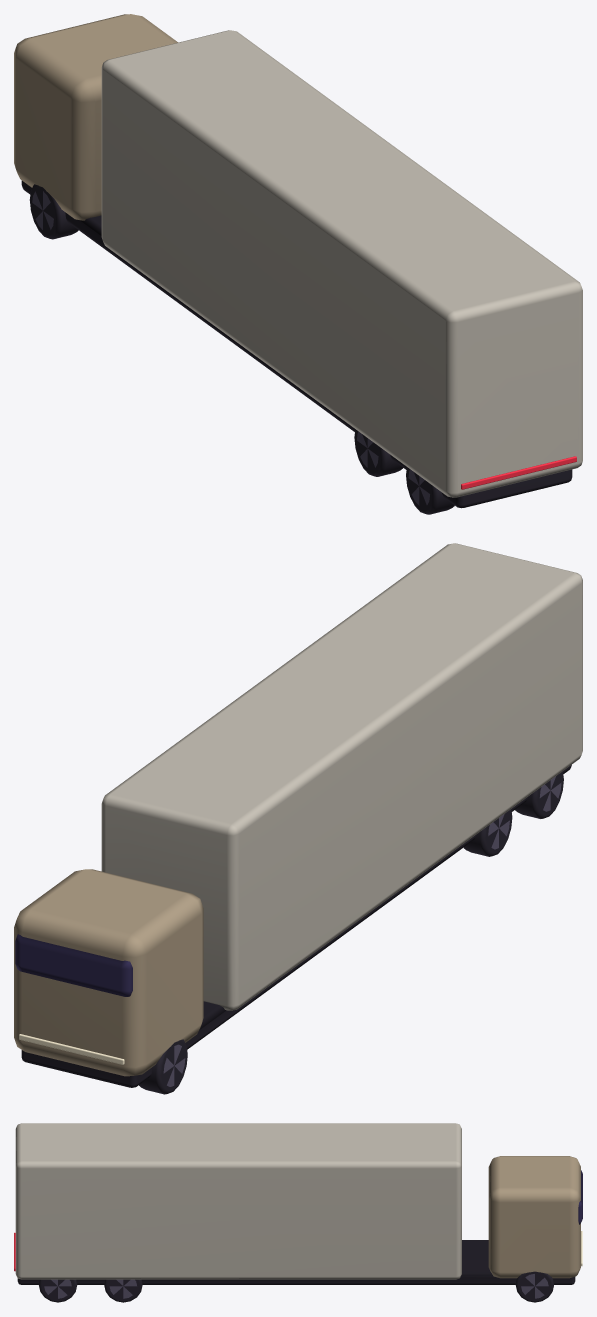
File: semi.glb
The picture shows the model from 3 angles, top to bottom: view 1: azimuth 30°, elevation 25°; view 2: azimuth 150°, elevation 25°; view 3: azimuth 270°, elevation 25°; orthographic projection. The views are drawn at different scales.
Visible parts, largest first — view 1: body, wheel_fl_mesh, wheel_ml_mesh, wheel_rl_mesh, lights; view 2: body, glass, wheel_fl_mesh, wheel_ml_mesh, wheel_rl_mesh, lights; view 3: body, wheel_fr_mesh, wheel_mr_mesh, wheel_rr_mesh.
Boxes of the visible parts, box(x1,y1,x2,y2) form: body: box(14, 14, 582, 508); wheel_fl_mesh: box(29, 184, 78, 239); wheel_ml_mesh: box(354, 429, 402, 476); wheel_rl_mesh: box(406, 467, 454, 514); lights: box(461, 456, 576, 489); body: box(14, 543, 582, 1087); glass: box(15, 934, 132, 996); wheel_fl_mesh: box(139, 1039, 187, 1094); wheel_ml_mesh: box(463, 809, 512, 856); wheel_rl_mesh: box(515, 771, 563, 818); lights: box(19, 1034, 124, 1064); body: box(15, 1123, 580, 1284); wheel_fr_mesh: box(515, 1271, 553, 1302); wheel_mr_mesh: box(104, 1279, 142, 1302); wheel_rr_mesh: box(38, 1279, 77, 1302).
Size of the model in its own units: 2.6 by 4.05 by 14.79.
